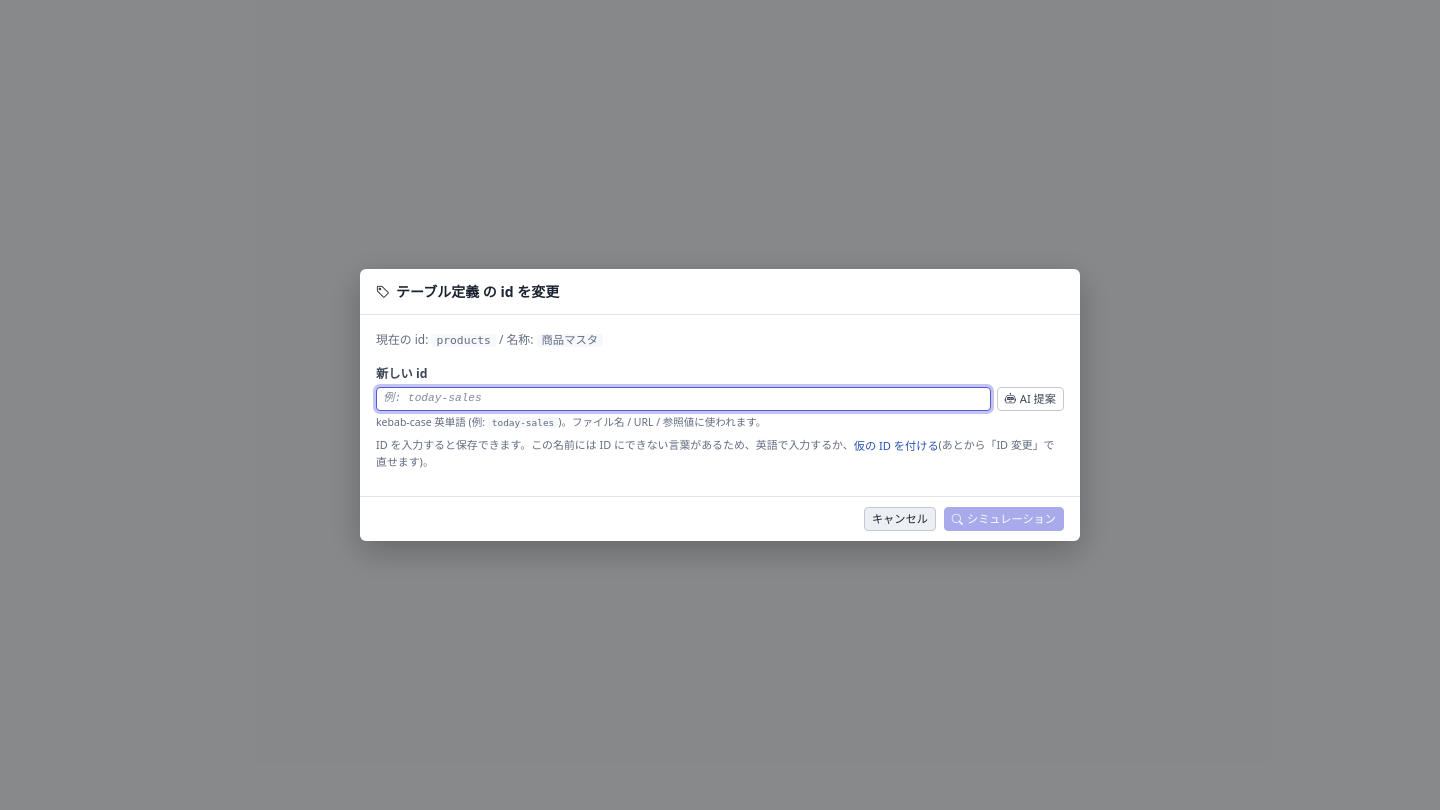
Test: RenameEntityDialog › preview RPC エラー → input 画面でエラー表示
The width and height of the screenshot is (1440, 810).
Type "products-v2" into the field with test id "entity-id-input" showing "新しい id" at {"x": 683, "y": 399}, box [376,387,991,410]
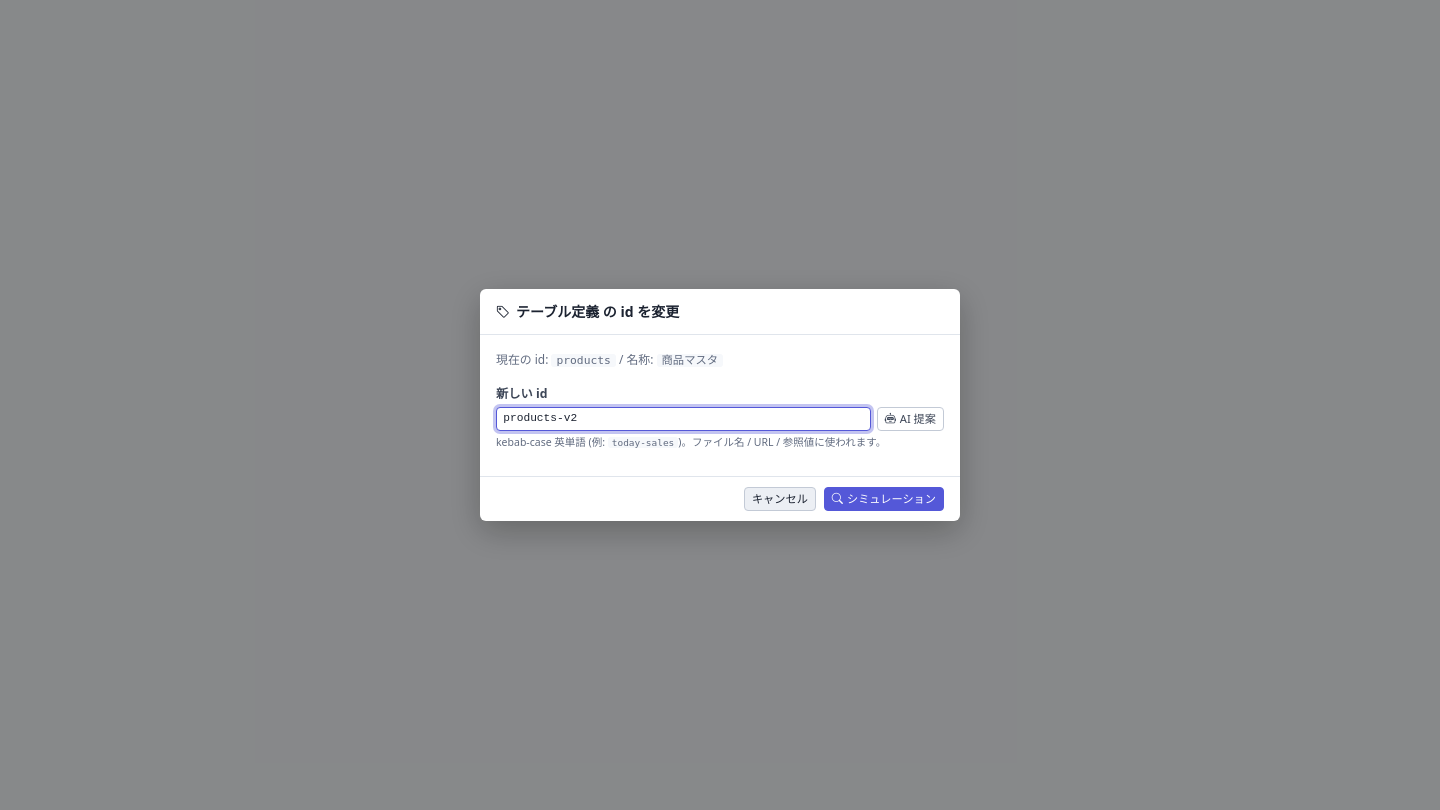
Click the button with test id "rename-entity-preview-btn" at {"x": 884, "y": 499}, box [824,487,944,511]
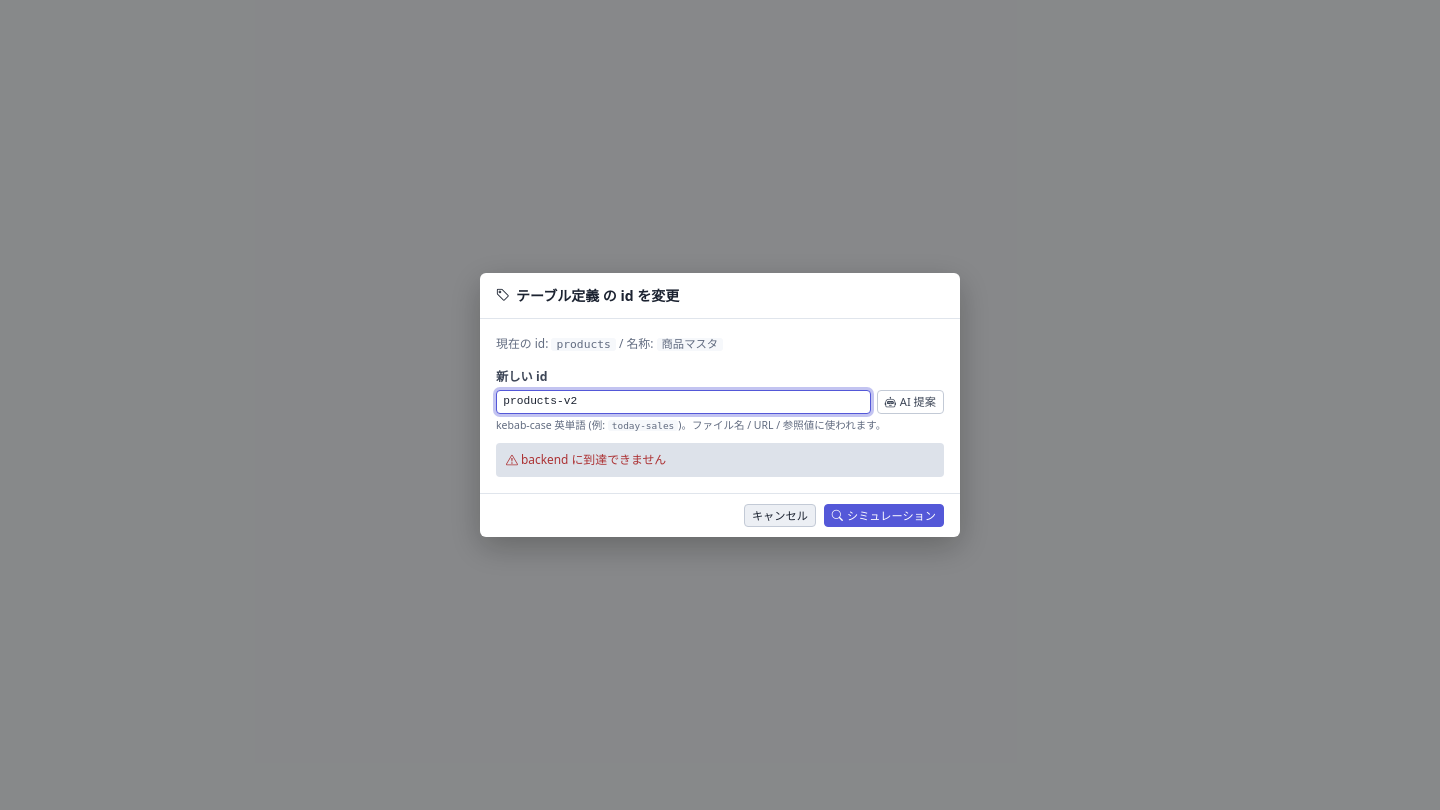
Check: the text "backend に到達できません" is shown, box [496,443,944,477]
